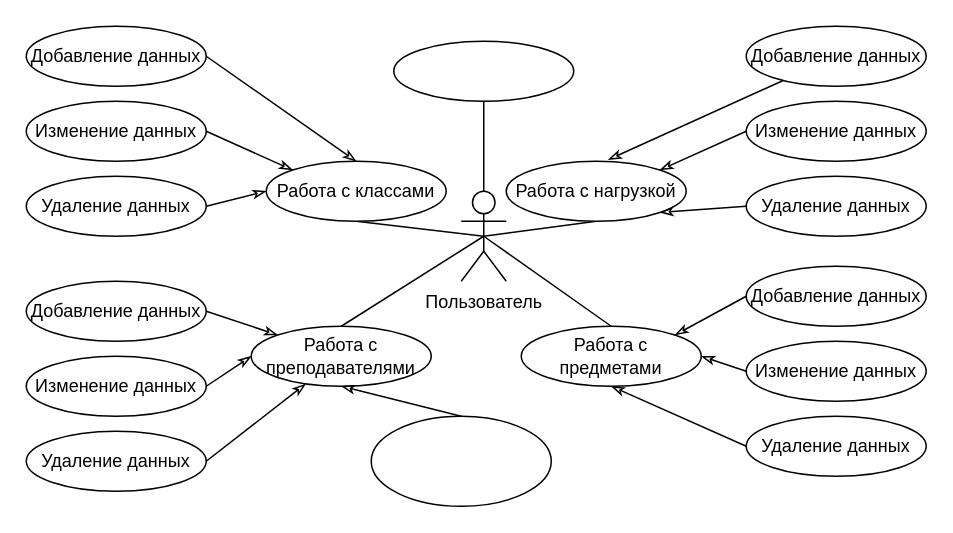
This 953x533 diagram has some shape labels left out. Here are the shapes that lost their labels. From the top down, the box of each, then its label:
(392, 40, 574, 101): Генерация расписания
(370, 415, 551, 506): Выбор предметов, которые ведет преподаватель
